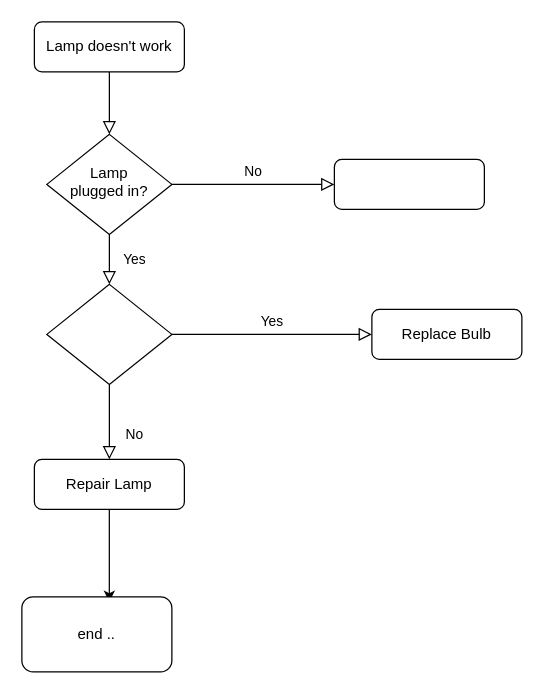
This 544x694 diagram has some shape labels left out. The box of each missing label's shape, as (x1, y1, x2, y2) in pixels:
Bulb burned out?: (46, 283, 172, 384)
Plug in lamp: (333, 158, 484, 209)
